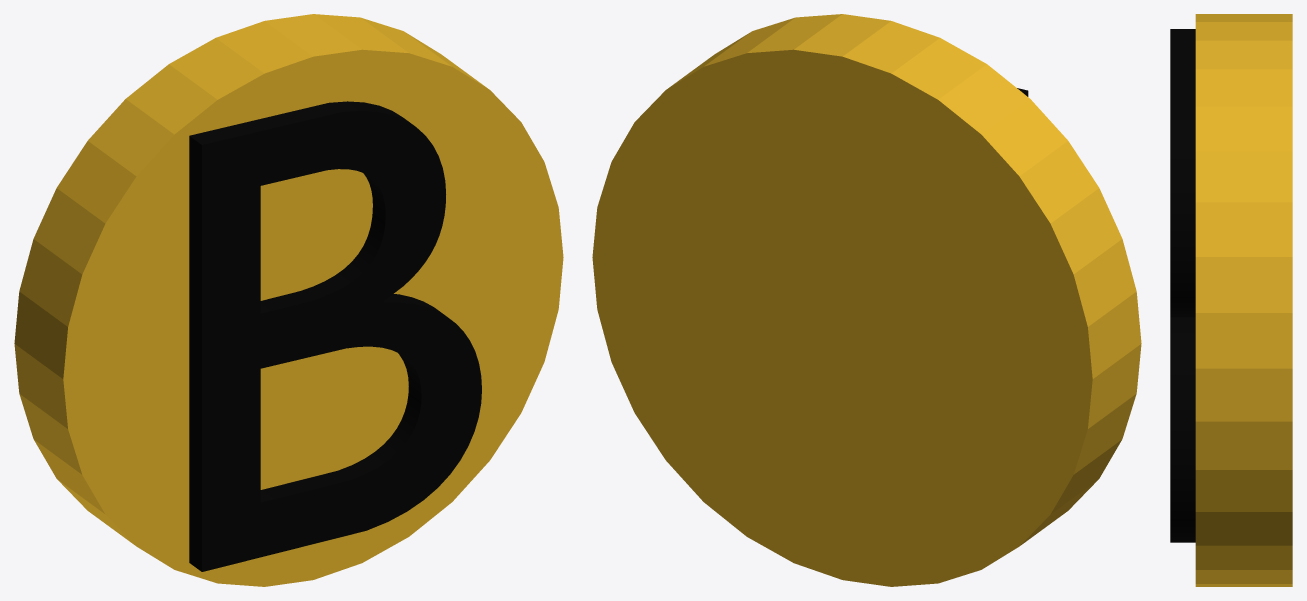
Rendered from timesupB.fbx.
3 renders of one model, left to right at view 1: azimuth 30°, elevation 25°; view 2: azimuth 150°, elevation 25°; view 3: azimuth 270°, elevation 25°, orthographic.
Parts seen in each view (by area): view 1: B; view 2: B; view 3: B.
Part boxes in pixels (bbox=[...]): B: bbox=[14, 14, 563, 586]; B: bbox=[592, 14, 1141, 586]; B: bbox=[1170, 14, 1292, 586].
Size of the model in its own units: 20 by 20 by 4.27.
